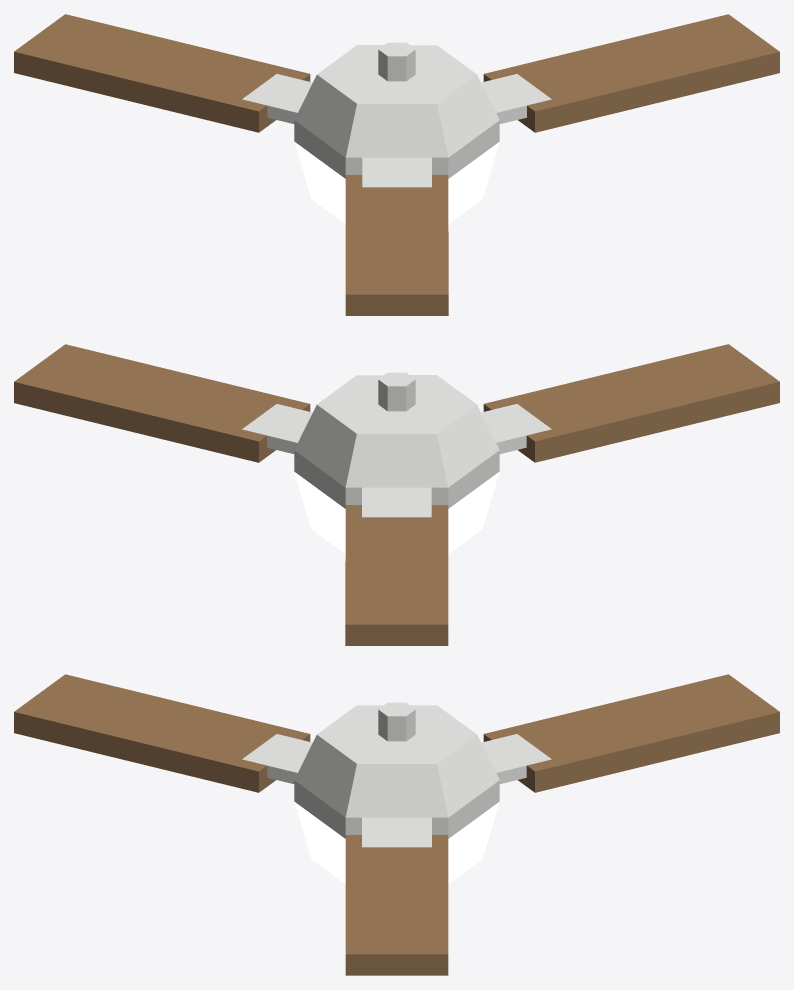
Rendered from fan-ceiling.glb.
3 renders of one model, top to bottom at view 1: azimuth 30°, elevation 25°; view 2: azimuth 150°, elevation 25°; view 3: azimuth 270°, elevation 25°, orthographic.
Parts seen in each view (by area): view 1: fan-ceiling; view 2: fan-ceiling; view 3: fan-ceiling.
Part boxes in pixels (x1,y1,x2,y2): fan-ceiling: (14,14,779,315); fan-ceiling: (14,344,779,645); fan-ceiling: (14,674,779,975).
Bounding box in the file's own units: 0.9 × 0.27 × 1.04.
